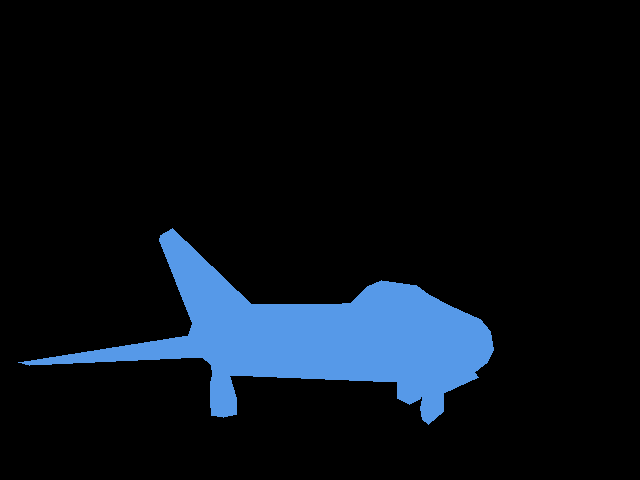Airplane: (18, 228, 494, 424)
